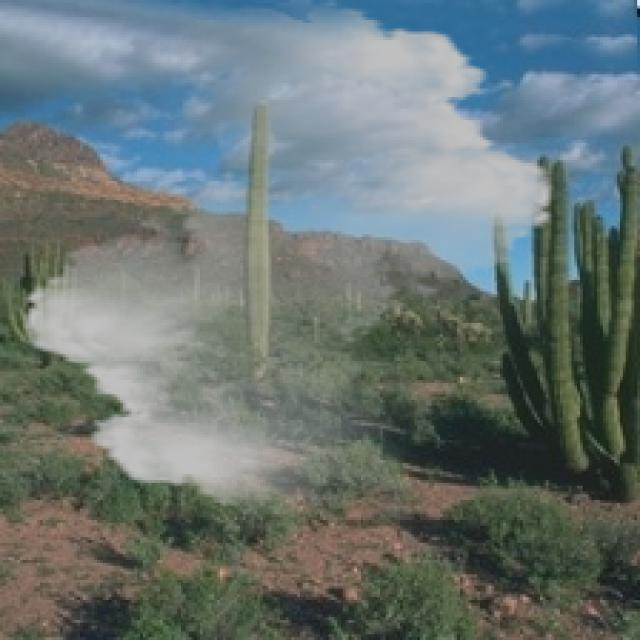smoke: (5, 0, 572, 515)
